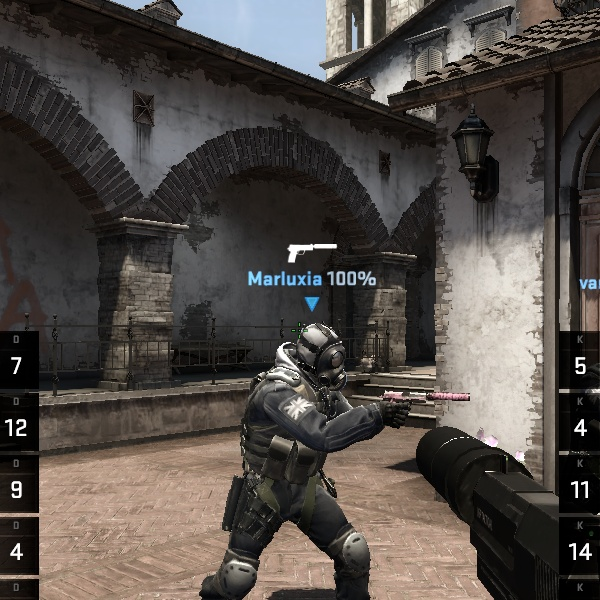ct_body: (200, 314, 380, 595)
ct_head: (279, 316, 354, 389)
